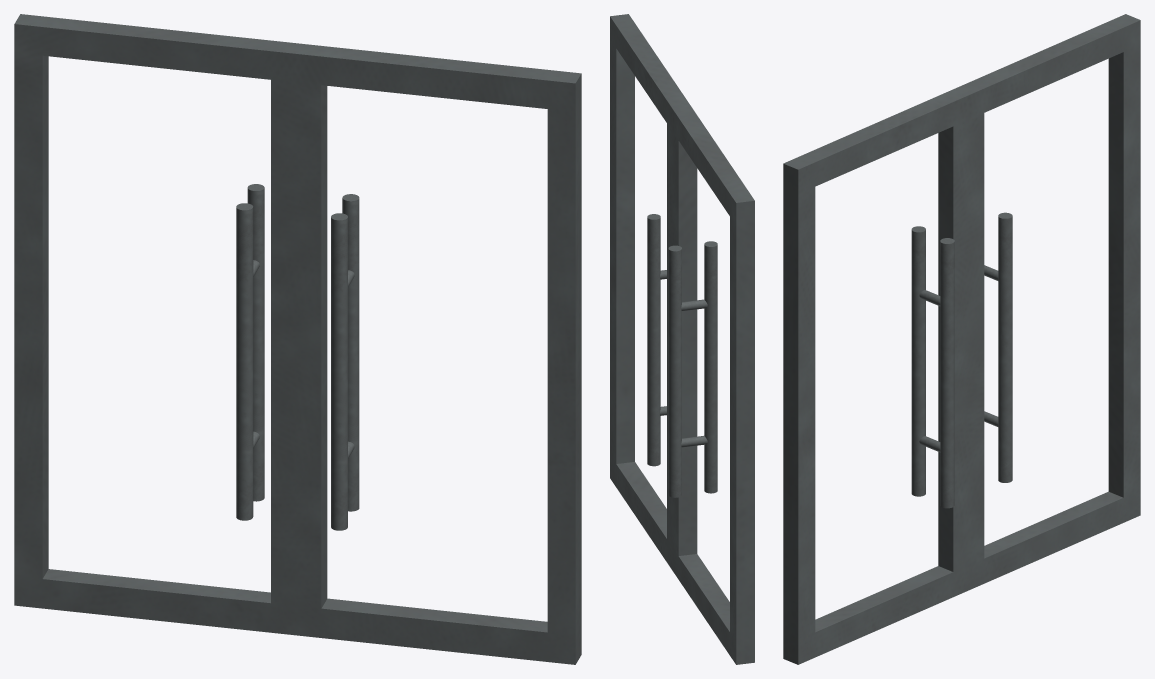
Rendered from SM_106_Door_12_1_4.fbx.
The picture shows the model from 3 angles, left to right: view 1: azimuth 30°, elevation 25°; view 2: azimuth 150°, elevation 25°; view 3: azimuth 270°, elevation 25°; orthographic projection. The views are drawn at different scales.
Visible parts, largest first — view 1: SM_106_Door_12_1_4; view 2: SM_106_Door_12_1_4; view 3: SM_106_Door_12_1_4.
Part boxes in pixels (x1,y1,x2,y2): SM_106_Door_12_1_4: [14, 14, 581, 664]; SM_106_Door_12_1_4: [610, 14, 754, 664]; SM_106_Door_12_1_4: [783, 14, 1140, 664].
Size of the model in its own units: 181 by 176 by 269.
1 material, 1 textured.
